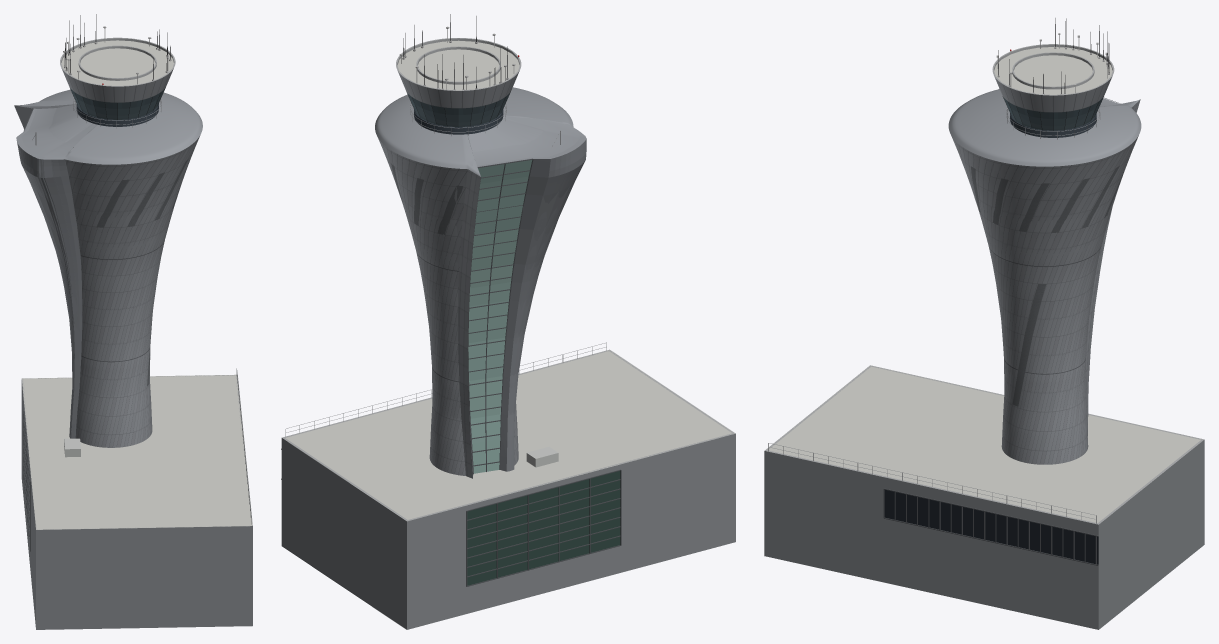
Rendered from tower.glb.
3 views of the same model, side by side, from view 1: azimuth 30°, elevation 25°; view 2: azimuth 150°, elevation 25°; view 3: azimuth 270°, elevation 25° (orthographic). The views are drawn at different scales.
Parts seen in each view (by area): view 1: L2_ibf, L0_ibf, L2_shaft, L0_shaft, L0_flare_deck, L0_cab, L0_landside, L1_shaft, L2_landside, L2_flare_deck, L1_cab, L2_cab (+6 smaller); view 2: L0_ibf, L2_ibf, L2_ribbon, L2_landside, L0_cab, L0_flare_deck, L2_shaft, L0_shaft, L0_landside, L0_ibf_mullions, L0_ribbon_mullions, L2_flare_deck (+9 smaller); view 3: L0_ibf, L2_ibf, L2_shaft, L0_shaft, L0_flare_deck, L0_cab, L1_shaft, L1_cab, L0_ibf_mullions, L0_cab_glass, L1_cab_glass, L2_cab (+3 smaller).
Part boxes in pixels (x1=…): L2_ibf: x1=22, y1=374, x2=252, y2=529; L0_ibf: x1=21, y1=375, x2=252, y2=629; L2_shaft: x1=65, y1=138, x2=198, y2=447; L0_shaft: x1=66, y1=136, x2=199, y2=447; L0_flare_deck: x1=15, y1=89, x2=202, y2=164; L0_cab: x1=60, y1=37, x2=175, y2=126; L0_landside: x1=17, y1=142, x2=82, y2=437; L1_shaft: x1=71, y1=152, x2=191, y2=398; L2_landside: x1=14, y1=105, x2=82, y2=438; L2_flare_deck: x1=17, y1=102, x2=96, y2=159; L1_cab: x1=60, y1=38, x2=175, y2=120; L2_cab: x1=60, y1=38, x2=174, y2=119; L0_ibf: x1=281, y1=349, x2=735, y2=629; L2_ibf: x1=285, y1=350, x2=734, y2=519; L2_ribbon: x1=468, y1=160, x2=532, y2=418; L2_landside: x1=458, y1=145, x2=580, y2=470; L0_cab: x1=396, y1=38, x2=521, y2=134; L0_flare_deck: x1=375, y1=87, x2=585, y2=176; L2_shaft: x1=379, y1=141, x2=518, y2=474; L0_shaft: x1=377, y1=136, x2=518, y2=475; L0_landside: x1=459, y1=139, x2=586, y2=478; L0_ibf_mullions: x1=281, y1=448, x2=621, y2=586; L0_ribbon_mullions: x1=468, y1=158, x2=533, y2=473; L2_flare_deck: x1=469, y1=115, x2=585, y2=174; L0_ibf: x1=764, y1=365, x2=1204, y2=629; L2_ibf: x1=766, y1=365, x2=1202, y2=522; L2_shaft: x1=953, y1=137, x2=1137, y2=464; L0_shaft: x1=951, y1=136, x2=1138, y2=464; L0_flare_deck: x1=948, y1=89, x2=1141, y2=166; L0_cab: x1=992, y1=44, x2=1114, y2=137; L1_shaft: x1=959, y1=150, x2=1131, y2=410; L1_cab: x1=992, y1=44, x2=1113, y2=130; L0_ibf_mullions: x1=883, y1=488, x2=1098, y2=565; L0_cab_glass: x1=1002, y1=96, x2=1103, y2=130; L1_cab_glass: x1=1004, y1=98, x2=1102, y2=130; L2_cab: x1=993, y1=44, x2=1112, y2=130.
Size of the model in its own units: 45.01 by 68.48 by 52.4.
Materials: 59 (6 with a texture image).
